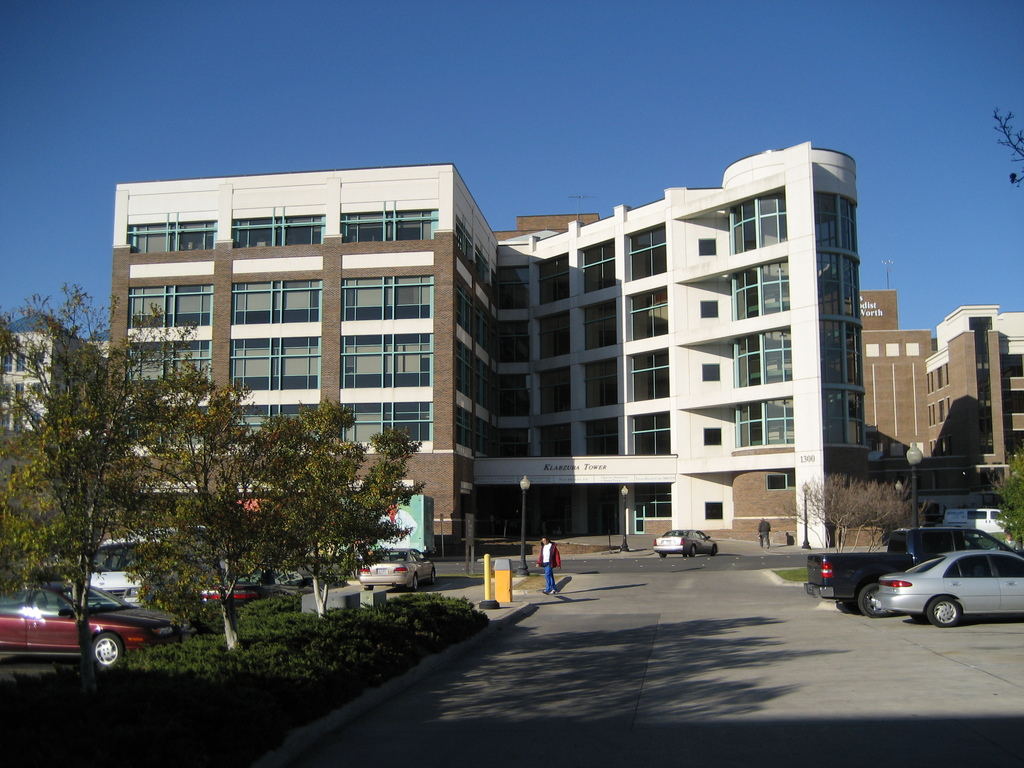Car: (14, 582, 177, 680), (873, 547, 1023, 628), (352, 543, 444, 590), (648, 523, 716, 559), (197, 568, 272, 597)
